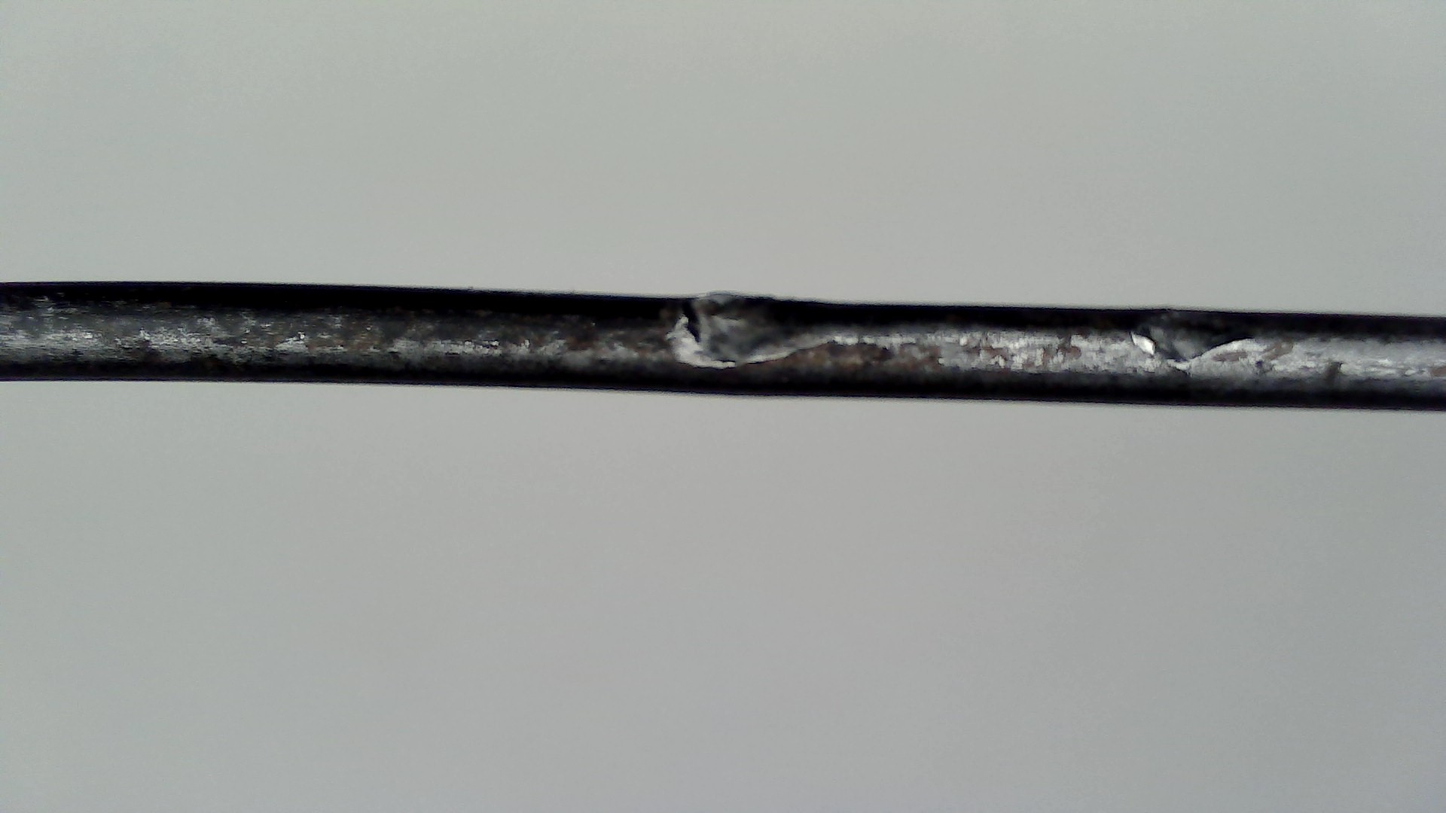defect: (658, 289, 920, 370), (1132, 312, 1315, 363)
